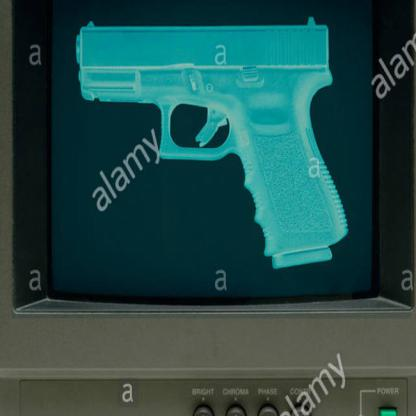gun: (74, 17, 352, 272)
